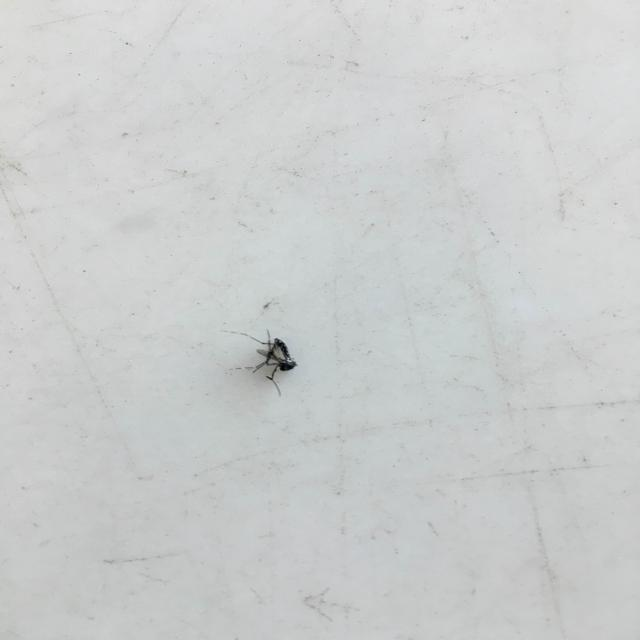albopictus: (216, 321, 306, 401)
